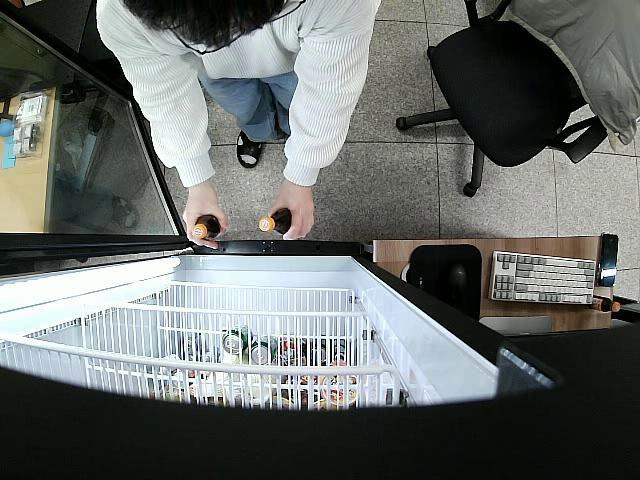17_vita500: (260, 206, 292, 234), (192, 215, 221, 241)
